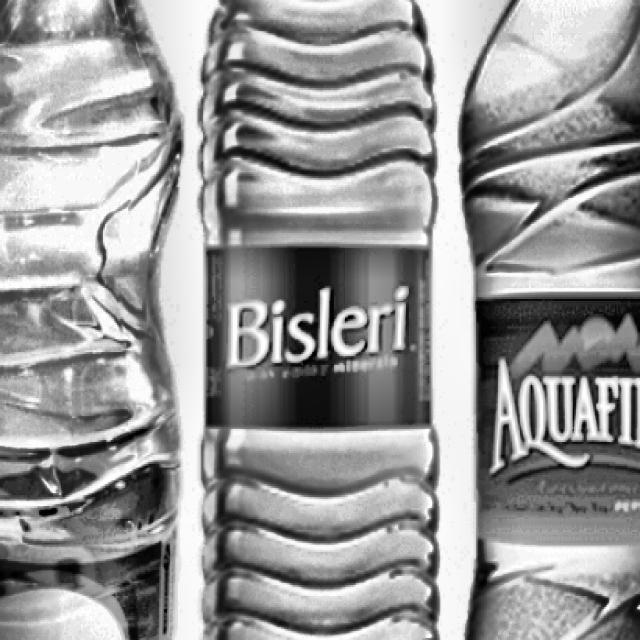bottle: (192, 0, 451, 640), (0, 0, 192, 640), (454, 0, 640, 640)
